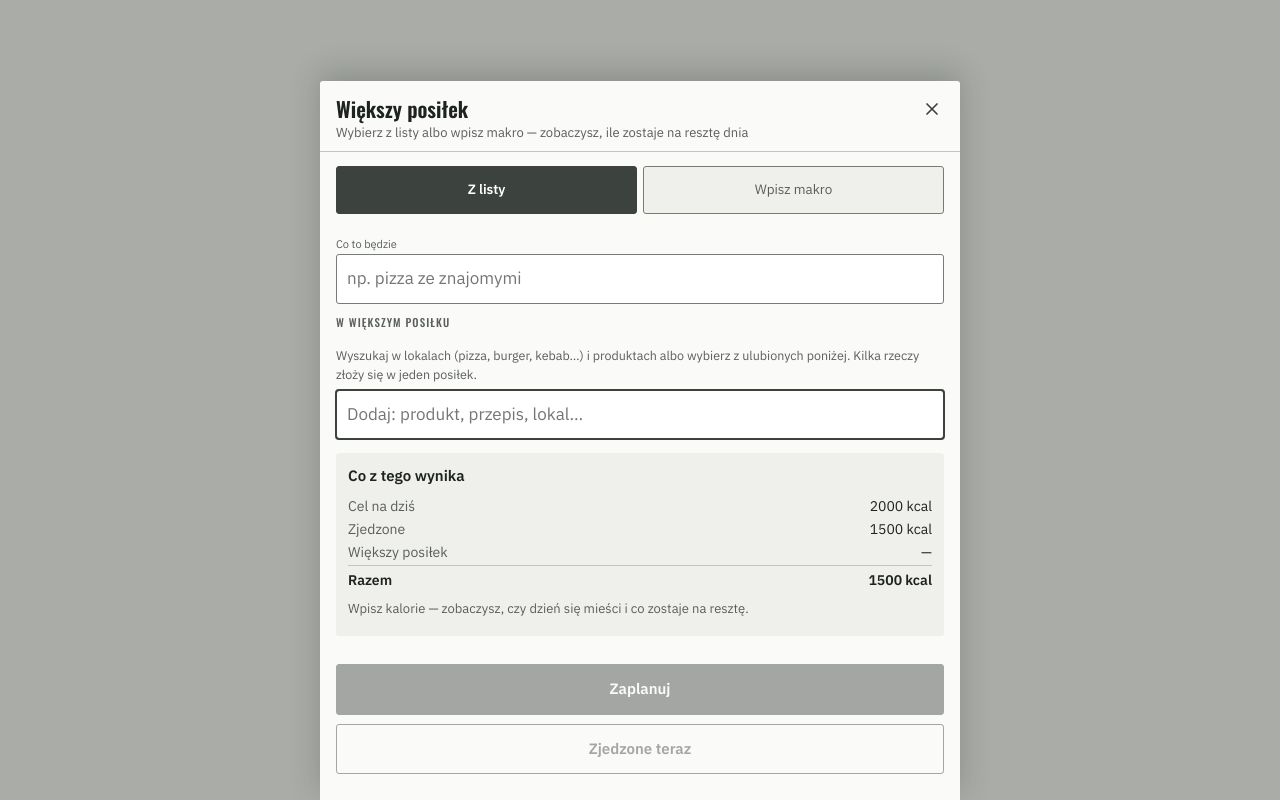
Test: arkusz „Większy posiłek” › 80 kcal ponad cel to wciąż cel: „Mieści się — to wypełnia cel dnia.”
Click the button "Wpisz makro" at (794, 190), box [643,166,944,214]
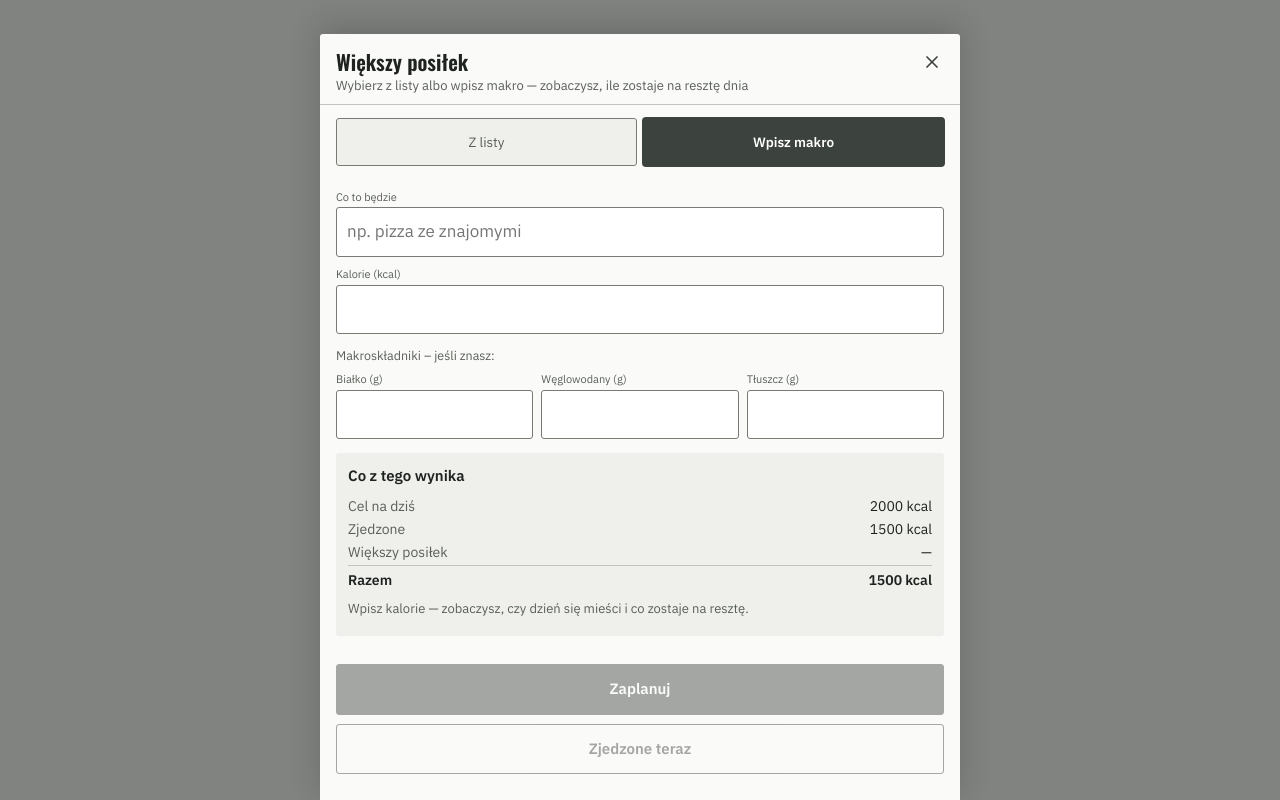
Type "580" into the field labelled "Kalorie (kcal)" at (640, 310), box [336,285,944,334]
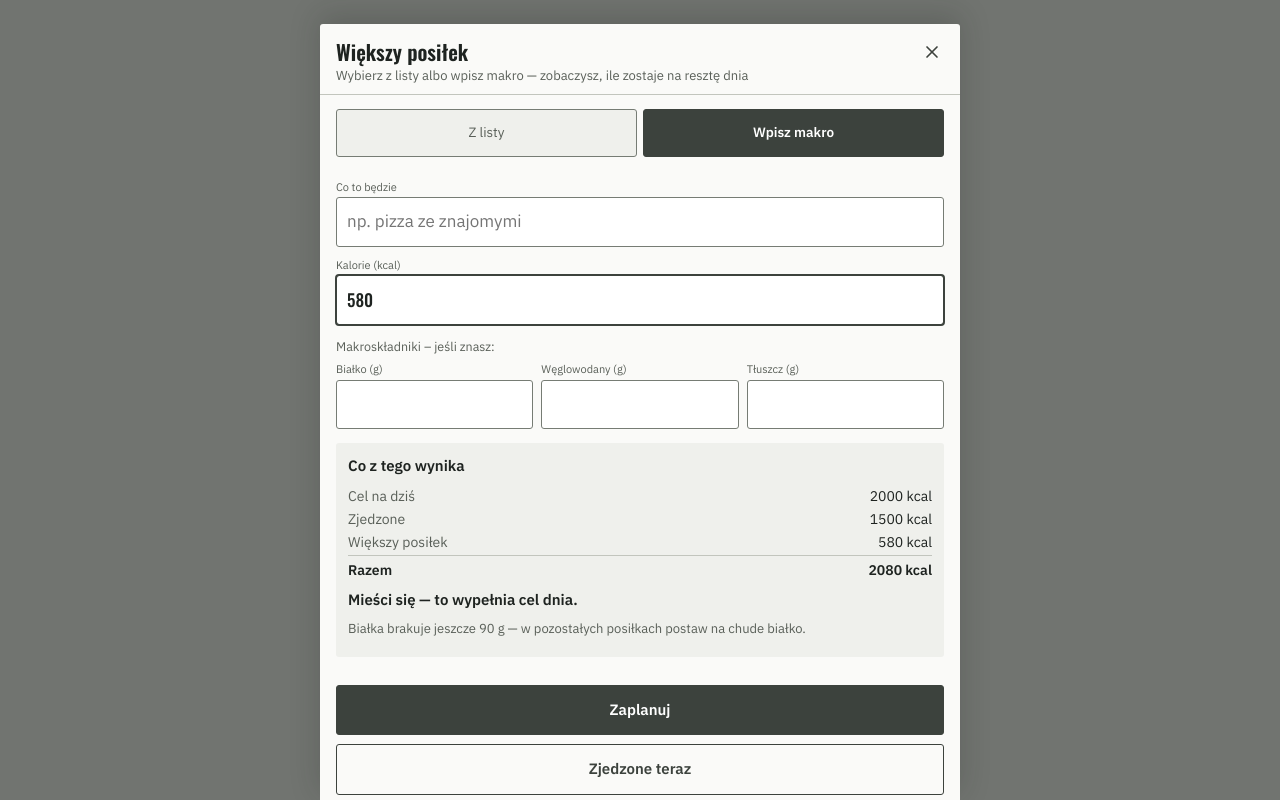
Expected: the element "Co z tego wynika" does not show "ponad cel", [336,443,944,657]
Expected: the element "Co z tego wynika" shows "Mieści się — to wypełnia cel dnia.", [348,590,578,609]
